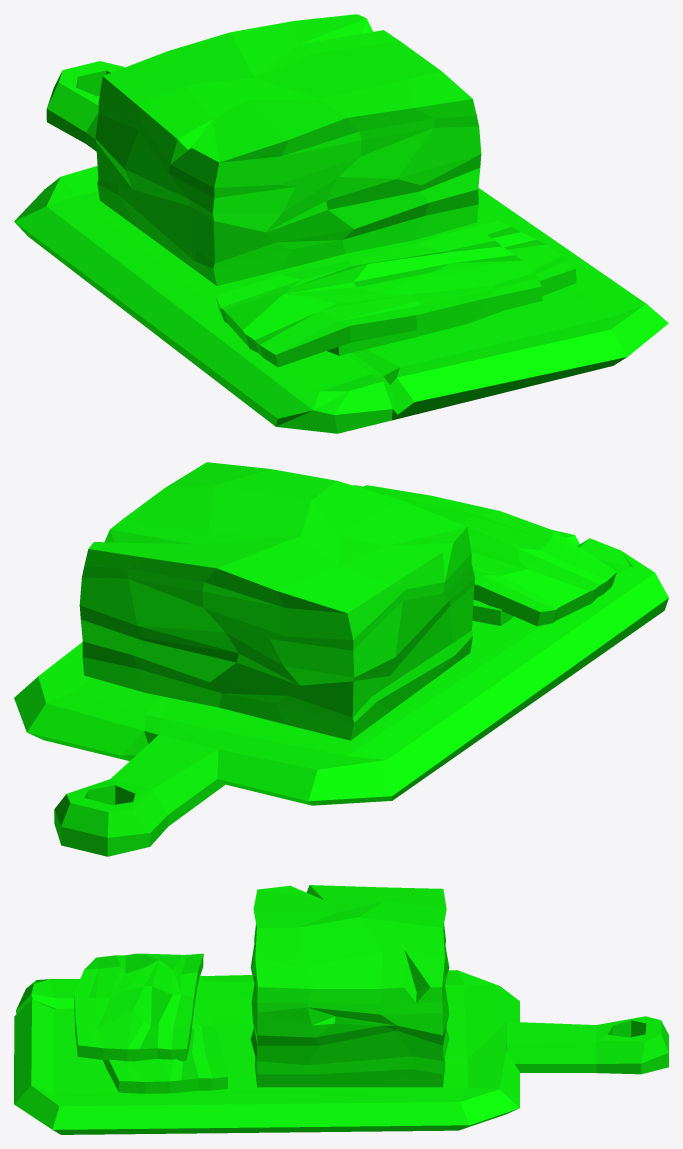
Rendered from SM_Cutting_Board_Bacon_Sliced.fbx.
3 views of the same model, one above another, from view 1: azimuth 30°, elevation 25°; view 2: azimuth 150°, elevation 25°; view 3: azimuth 270°, elevation 25° (orthographic). The views are drawn at different scales.
Parts seen in each view (by area): view 1: cutting-board-bacon-sliced; view 2: cutting-board-bacon-sliced; view 3: cutting-board-bacon-sliced.
Boxes of the visible parts, x1=… form: cutting-board-bacon-sliced: x1=14, y1=14, x2=668, y2=433; cutting-board-bacon-sliced: x1=14, y1=462, x2=668, y2=856; cutting-board-bacon-sliced: x1=14, y1=885, x2=668, y2=1134.
Bounding box in the file's own units: 0.3474 × 0.1465 × 0.6337.
